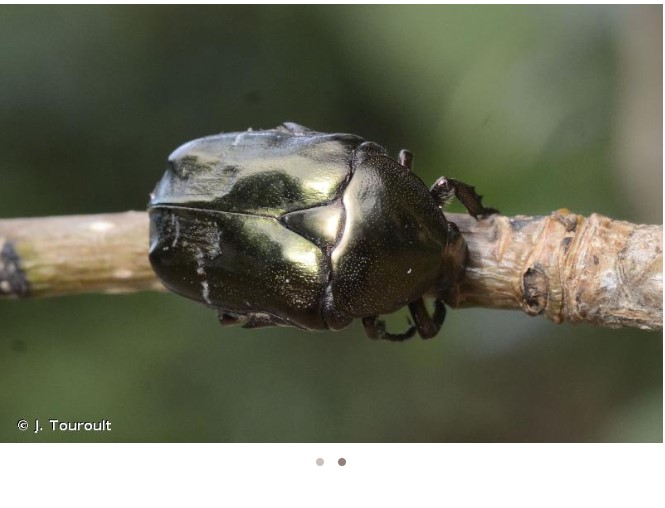Protaetia_fieberi: (142, 122, 500, 348)
